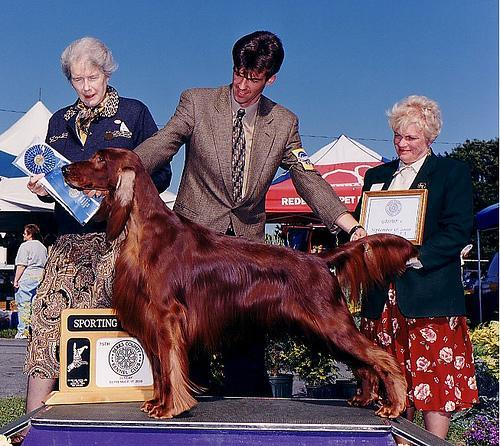Irish_setter: (61, 146, 425, 420)
